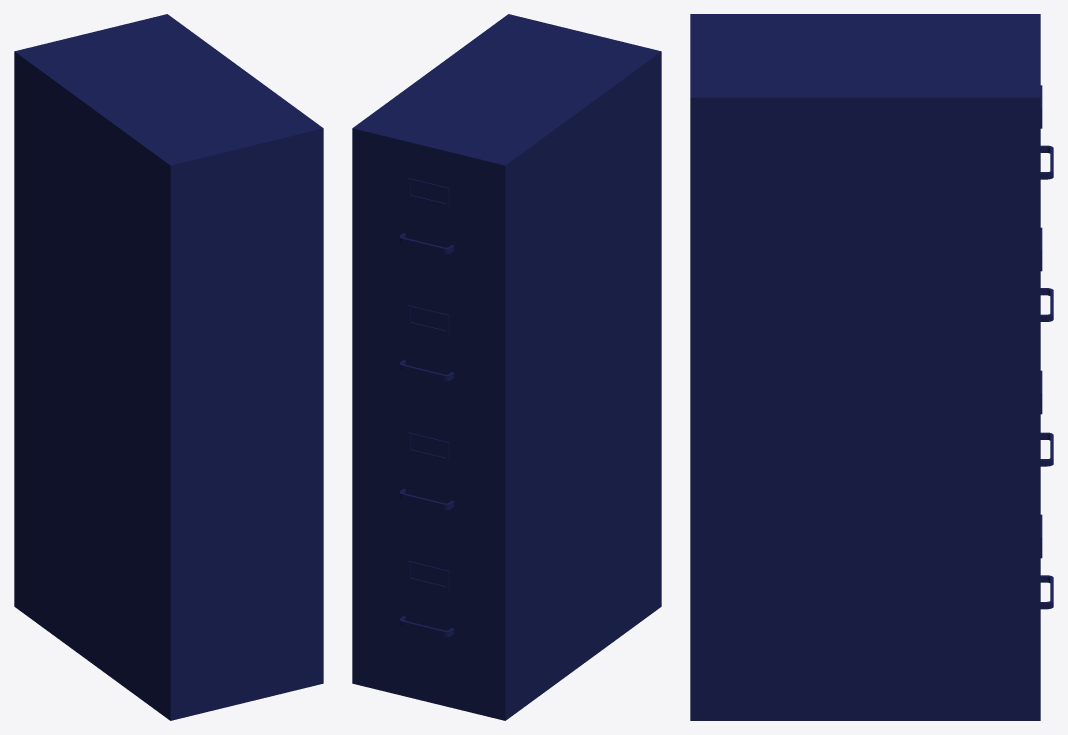
The picture shows the model from 3 angles, left to right: view 1: azimuth 30°, elevation 25°; view 2: azimuth 150°, elevation 25°; view 3: azimuth 270°, elevation 25°; orthographic projection. The views are drawn at different scales.
Visible parts, largest first — view 1: mesh1_mesh1-geometry; view 2: mesh1_mesh1-geometry; view 3: mesh1_mesh1-geometry.
Part boxes in pixels (x1=…): mesh1_mesh1-geometry: x1=14, y1=14, x2=323, y2=720; mesh1_mesh1-geometry: x1=352, y1=14, x2=661, y2=720; mesh1_mesh1-geometry: x1=690, y1=14, x2=1053, y2=720.
Size of the model in its own units: 0.2471 by 0.8566 by 0.453.
